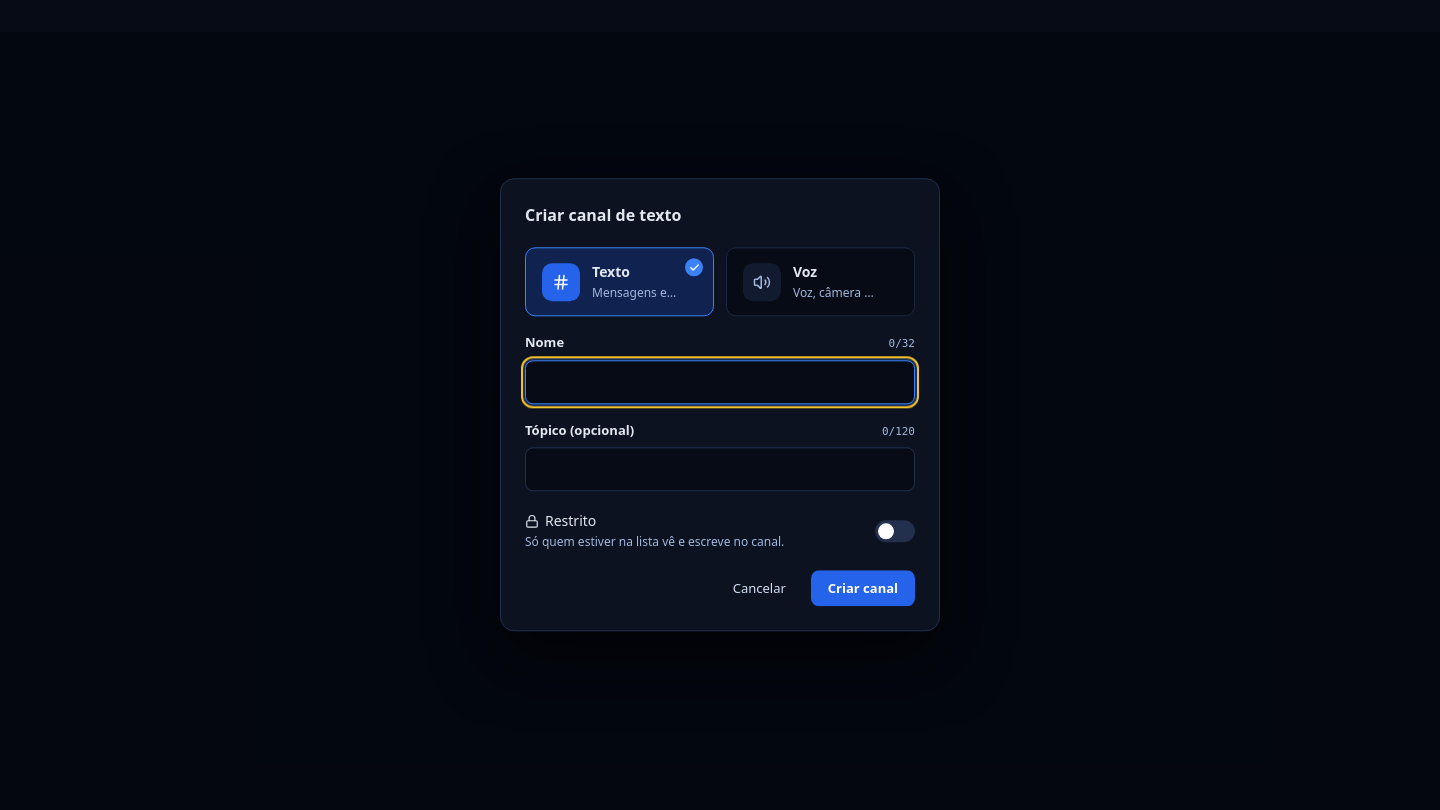
os diálogos de canais › Criar sala de voz manda o tipo, sem tópico, e não sai da tela
The image size is (1440, 810).
Later steps or results of the test are not shown.
Click the radio button labelled "Voz Voz, câmera e tela" at (820, 282), box [726, 247, 915, 316]
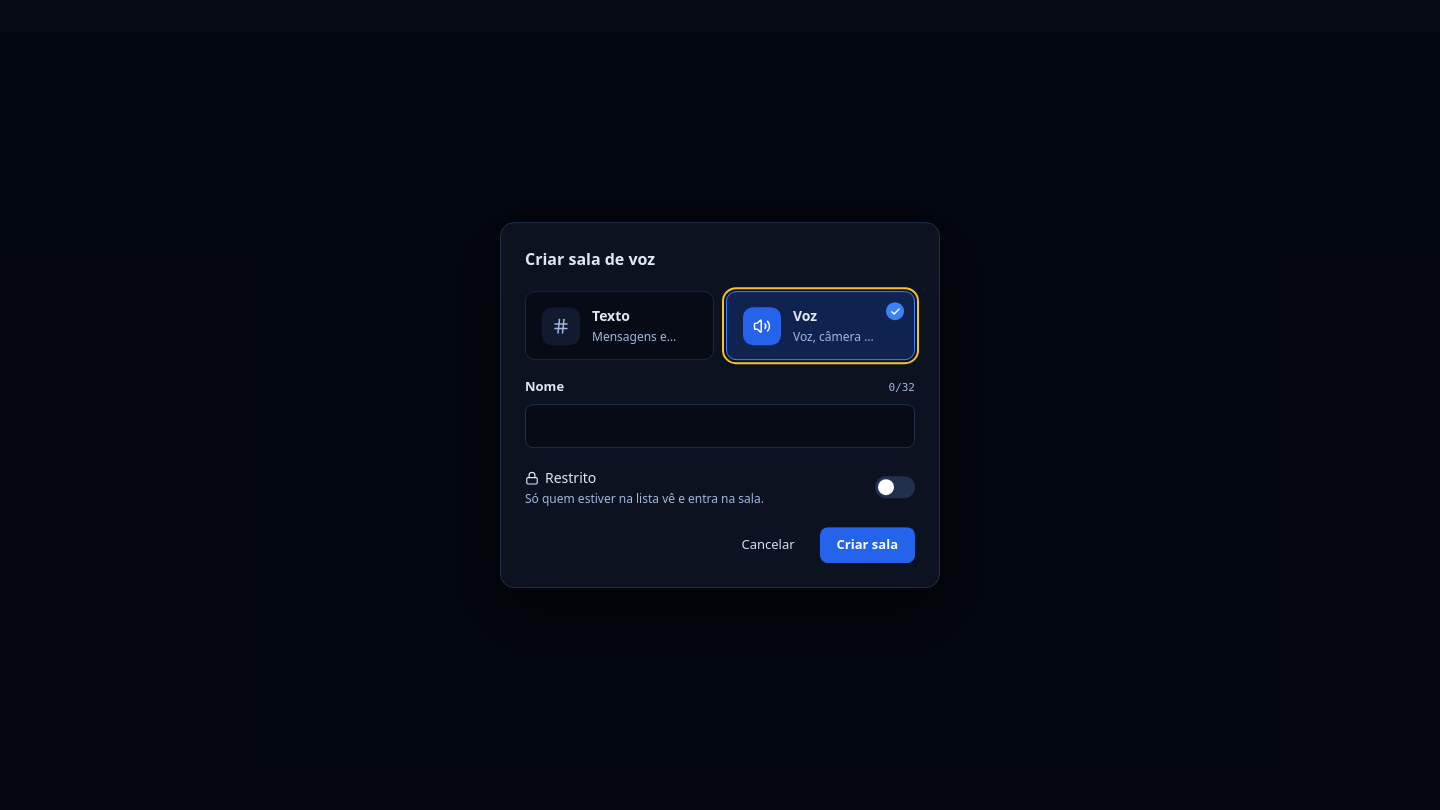
Now the heading "Criar sala de voz" is shown, box [525, 248, 655, 270]
Now the label labelled "Tópico (opcional)" is gone
